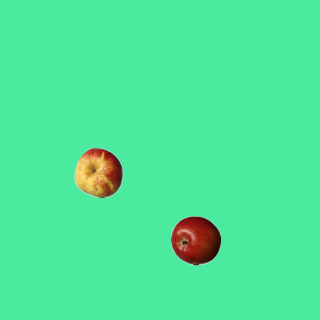Apple Braeburn: (170, 215, 220, 265)
Apple Red Yellow 1: (73, 147, 123, 197)
